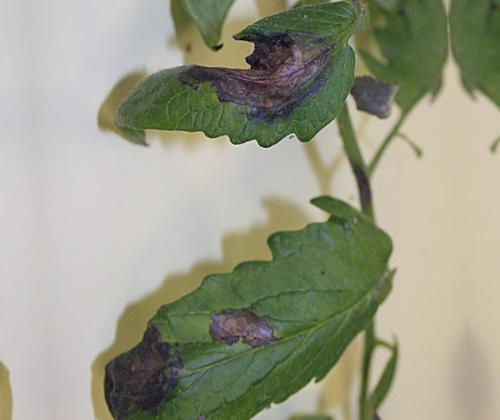Tomato leaf late blight: (74, 193, 435, 420), (85, 0, 378, 157)
